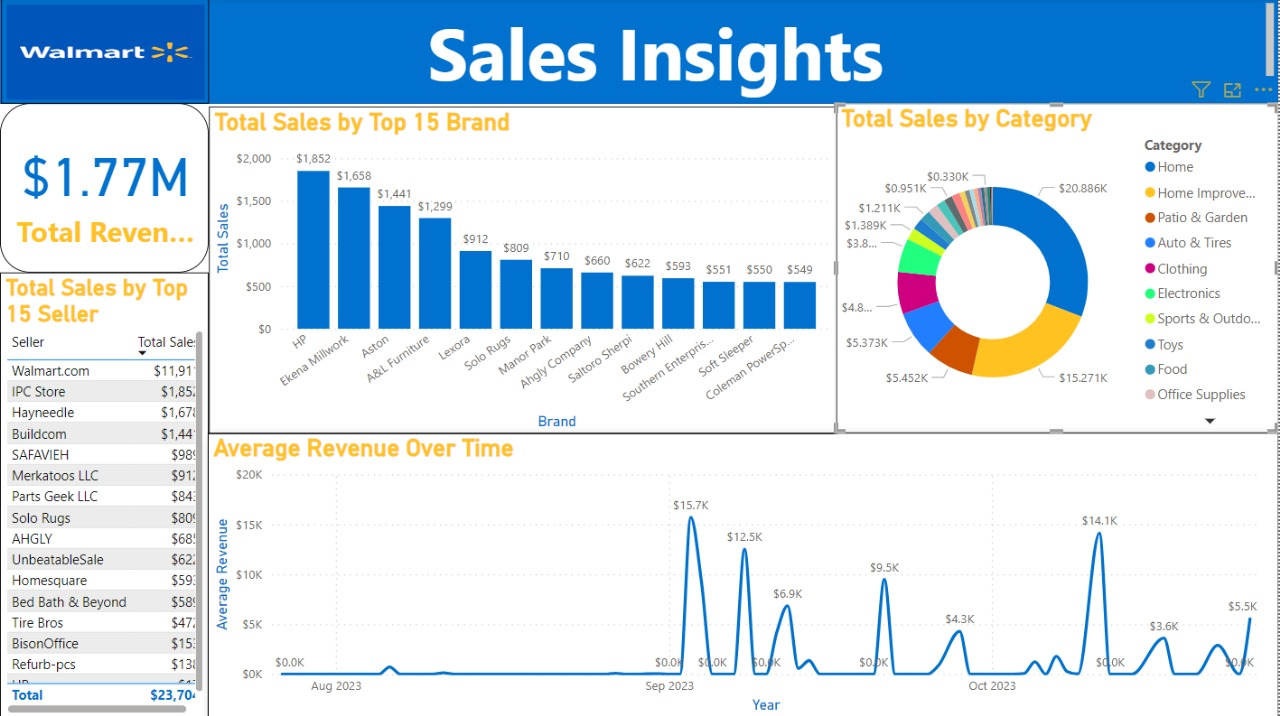

The dashboard page shown, as its layout file describes it:
{"tool":"powerbi","page":{"name":"Sales Insights","canvas":[1280,720],"ordinal":0},"visuals":[{"type":"shape","box":[0,0,1280,105.7],"z":1000},{"type":"tableEx","title":"Total Sales by Top 15 Seller ","fields":{"Values":["Walmart products dataset.seller","Sum(Walmart products dataset.final_price)"]},"box":[0,274.3,208.6,445.7],"z":2000},{"type":"clusteredColumnChart","title":"Total Sales by Top 15  Brand","fields":{"Y":["Sum(Walmart products dataset.final_price)"],"Category":["Walmart products dataset.brand"]},"box":[209.2,108.1,628.6,327.7],"z":2500},{"type":"textbox","box":[0,0,1280,105.7],"z":3000},{"type":"image","box":[1.5,0,208.1,105.6],"z":8500},{"type":"card","fields":{"Values":["Sum(Walmart products dataset.Total Revenue)"]},"box":[0,104.6,209.2,169.6],"z":9000},{"type":"donutChart","fields":{"Category":["Walmart products dataset.root_category_name"],"Y":["Sum(Walmart products dataset.final_price)"]},"box":[836.7,105,443.3,330],"z":9500},{"type":"lineChart","title":"Average Revenue  Over Time","fields":{"Y":["Avg(Walmart products dataset.Total Revenue)"],"Category":["Walmart products dataset.timestamp.Variation.Date Hierarchy.Year","Walmart products dataset.timestamp.Variation.Date Hierarchy.Quarter","Walmart products dataset.timestamp.Variation.Date Hierarchy.Month","Walmart products dataset.timestamp.Variation.Date Hierarchy.Day"]},"box":[208.3,435,1071.7,285],"z":10000}]}

Visuals, with their boxes on the page's 1280x720 design canvas (x1, y1, x2, y2). These are canvas units, not pixel positions in the 1280x716 screenshot, which may show the page scaled, cropped or inside an application window:
shape: locate(0, 0, 1280, 106)
"Total Sales by Top 15 Seller " tableEx: locate(0, 274, 209, 720)
"Total Sales by Top 15  Brand" clusteredColumnChart: locate(209, 108, 838, 436)
textbox: locate(0, 0, 1280, 106)
image: locate(2, 0, 210, 106)
card - Sum(Walmart products dataset.Total Revenue): locate(0, 105, 209, 274)
donutChart - Walmart products dataset.root_category_name x Sum(Walmart products dataset.final_price): locate(837, 105, 1280, 435)
"Average Revenue  Over Time" lineChart: locate(208, 435, 1280, 720)
